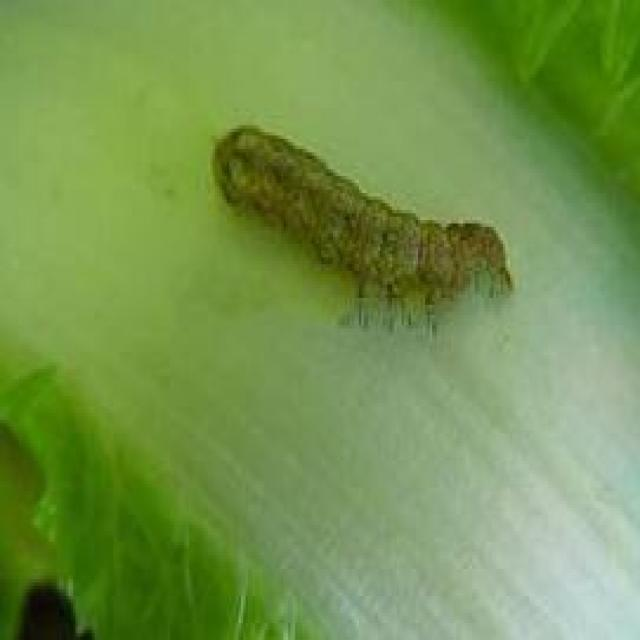armyworm: (209, 113, 534, 334)
